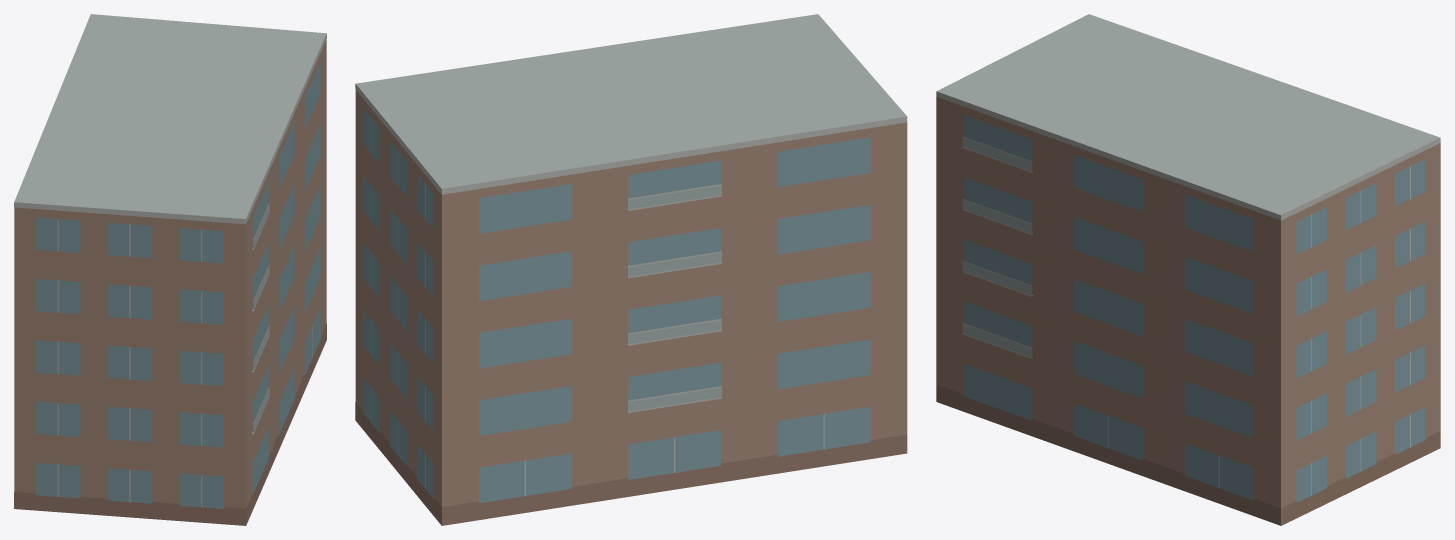
The model's file is survey-upis-32716201.glb.
3 renders of one model, left to right at view 1: azimuth 30°, elevation 25°; view 2: azimuth 150°, elevation 25°; view 3: azimuth 270°, elevation 25°, orthographic. The views are drawn at different scales.
Visible parts, largest first — view 1: survey-upis-32716201.tmp; view 2: survey-upis-32716201.tmp; view 3: survey-upis-32716201.tmp.
Part boxes in pixels (<box>): survey-upis-32716201.tmp: <box>14,14,326,525</box>; survey-upis-32716201.tmp: <box>355,14,907,525</box>; survey-upis-32716201.tmp: <box>936,14,1440,525</box>.
Size of the model in its own units: 19.89 by 14.3 by 21.05.
